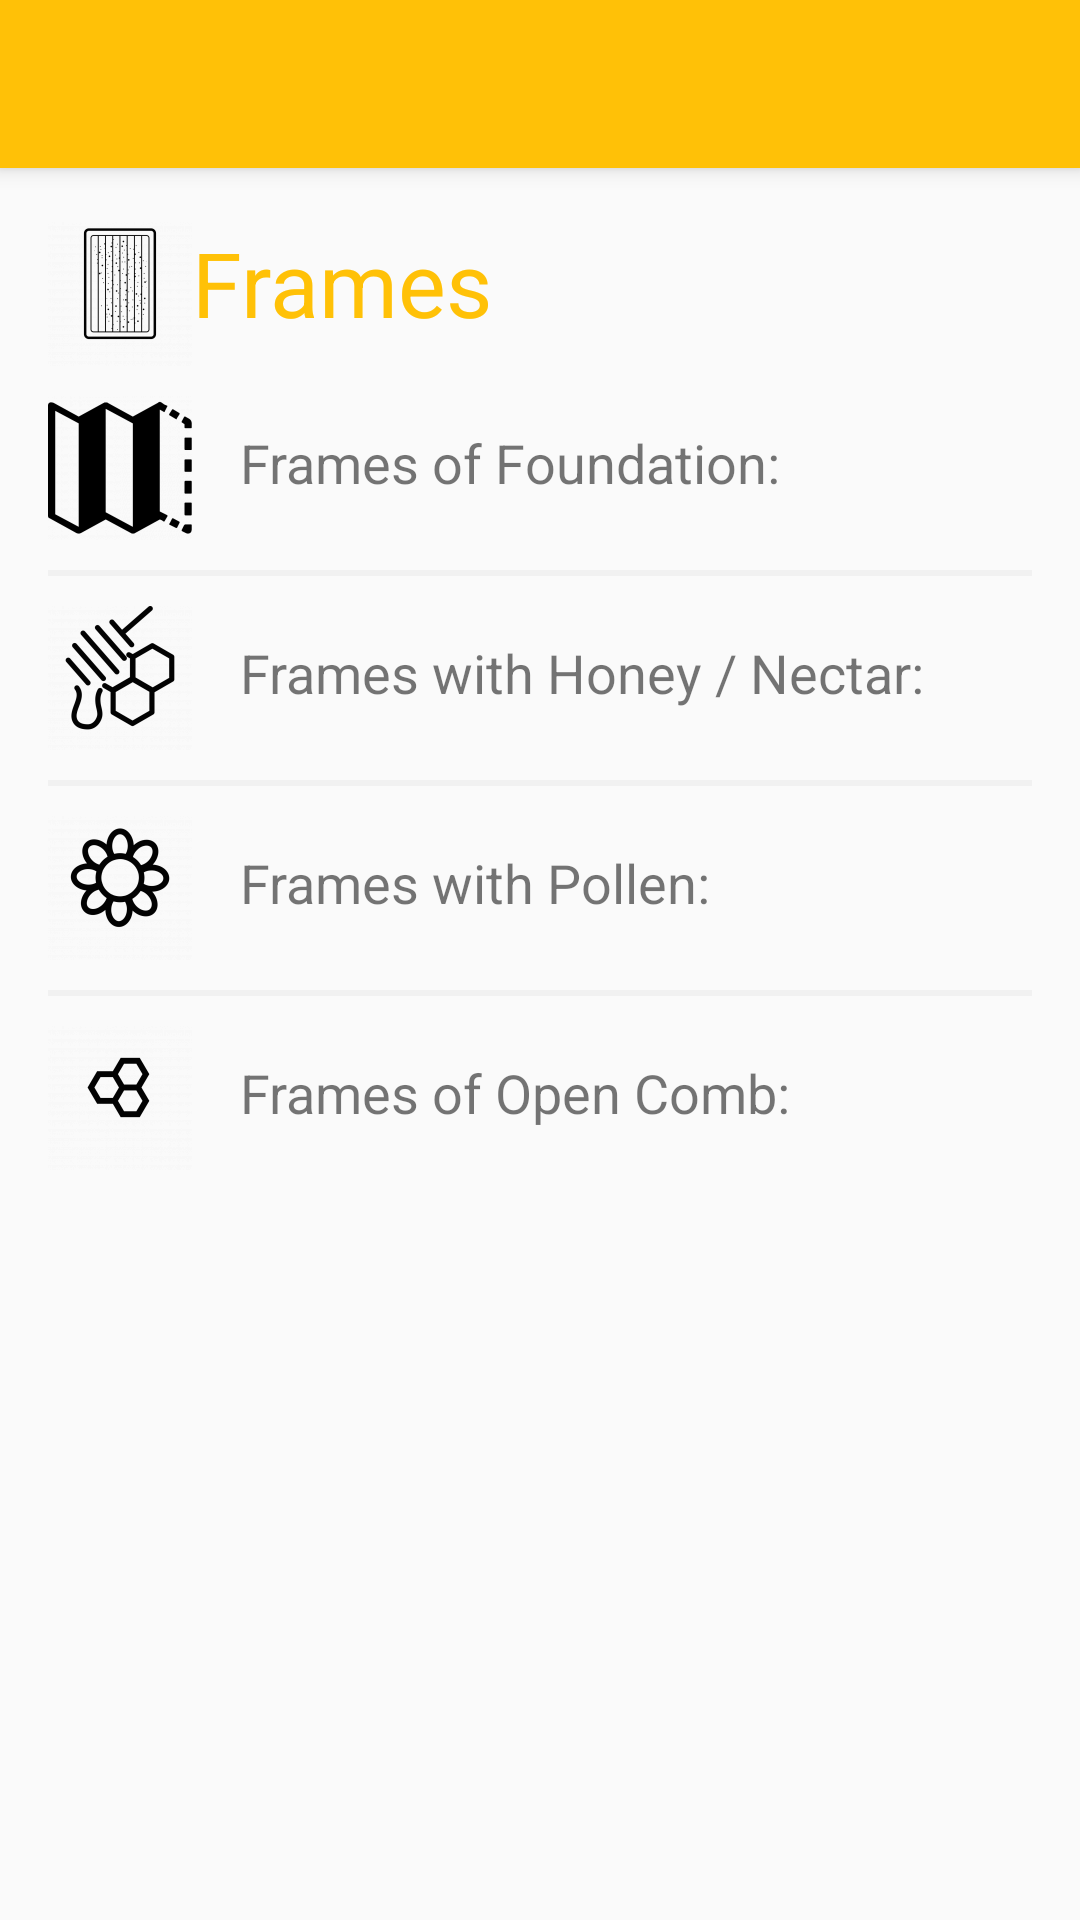

Screen size 1080px×1920px. Icon name, then its center in pixels as [x,y]:
honey amount: [120,668]
